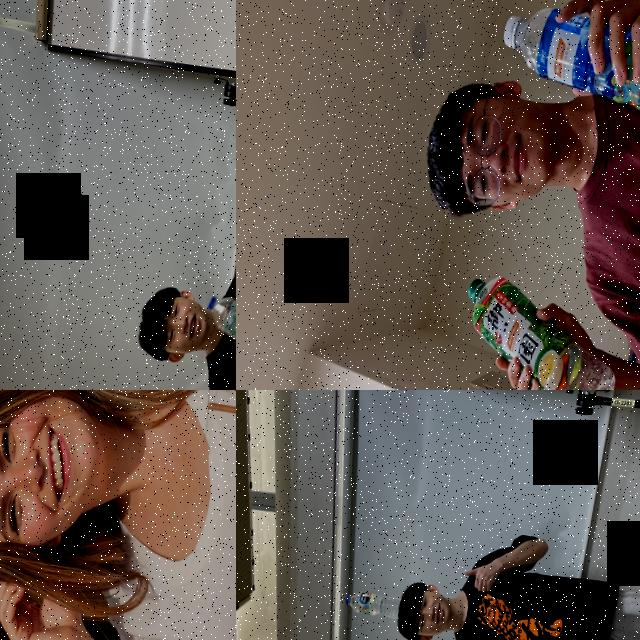bottle: (446, 270, 631, 390), (492, 0, 640, 118), (198, 288, 236, 368), (343, 588, 402, 620)
